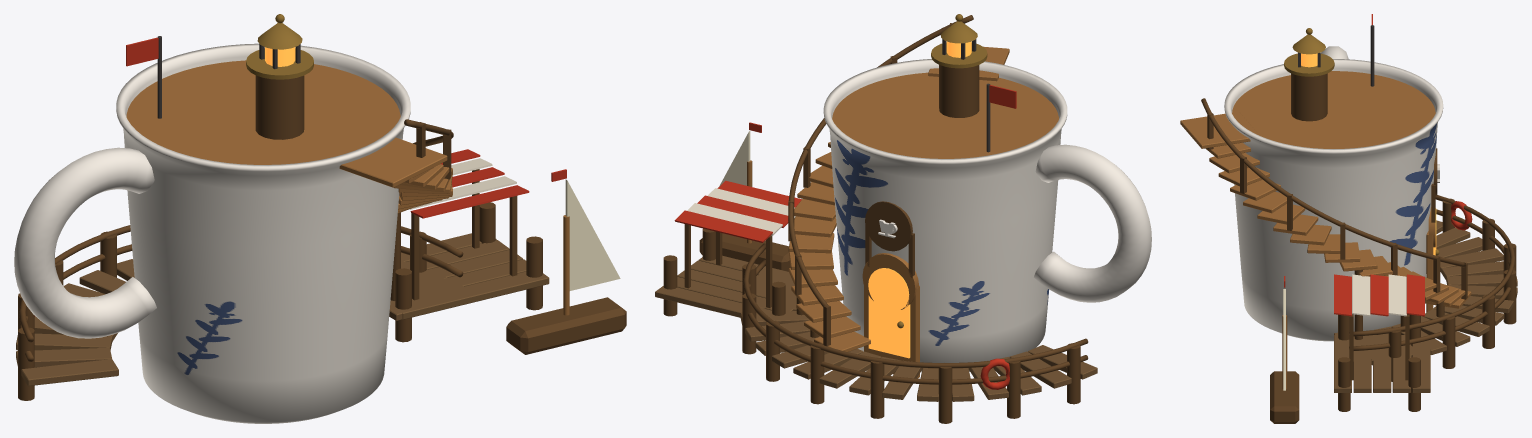
The model's file is cup-harbor-v03.glb.
The picture shows the model from 3 angles, left to right: view 1: azimuth 30°, elevation 25°; view 2: azimuth 150°, elevation 25°; view 3: azimuth 270°, elevation 25°; orthographic projection. The views are drawn at different scales.
Visible parts, largest first — view 1: SM_harbor_cup, SM_harbor_tower, SM_harbor_pier, SM_harbor_handle, SM_harbor_boat, SM_harbor_stairs; view 2: SM_harbor_cup, SM_harbor_pier, SM_harbor_tower, SM_harbor_stairs, SM_harbor_handle, SM_harbor_door, SM_harbor_boat; view 3: SM_harbor_cup, SM_harbor_pier, SM_harbor_tower, SM_harbor_stairs, SM_harbor_boat, SM_harbor_door.
Part boxes in pixels (x1,y1,x2,y2): SM_harbor_cup: (116,43,410,423); SM_harbor_tower: (126,14,400,164); SM_harbor_pier: (16,149,549,400); SM_harbor_handle: (14,147,156,338); SM_harbor_boat: (506,169,626,354); SM_harbor_stairs: (337,119,453,300); SM_harbor_cup: (823,59,1067,371); SM_harbor_pier: (655,180,1097,423); SM_harbor_tower: (832,14,1058,158); SM_harbor_stairs: (788,15,1009,351); SM_harbor_handle: (1034,144,1151,302); SM_harbor_door: (862,201,919,378); SM_harbor_boat: (699,122,790,271); SM_harbor_cup: (1224,59,1443,341); SM_harbor_pier: (1334,195,1517,411); SM_harbor_tower: (1232,14,1435,148); SM_harbor_stairs: (1180,98,1471,339); SM_harbor_boat: (1270,276,1299,423); SM_harbor_door: (1426,148,1439,312).
Size of the model in its own units: 6.96 by 4.41 by 4.81.
11 materials, 1 textured.
